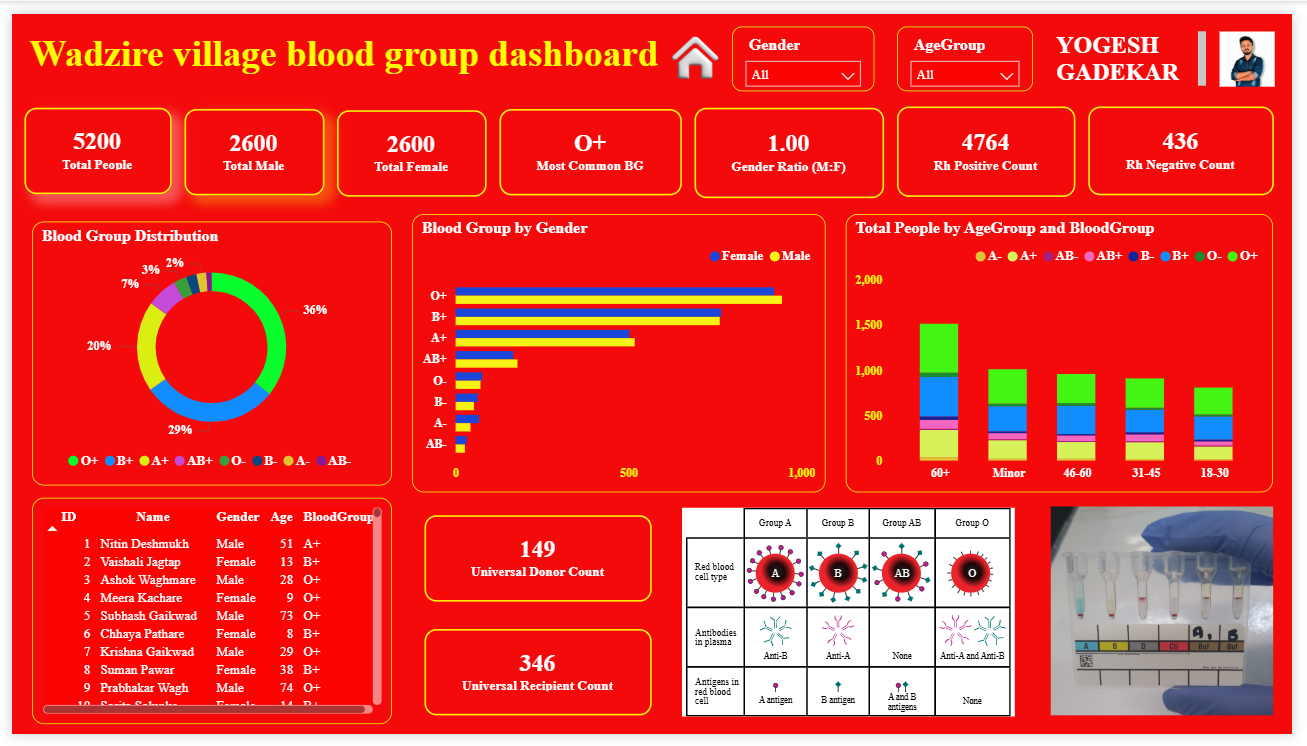

This screenshot's page, from the dashboard's own definition file:
{"tool":"powerbi","page":{"name":"Page 1","canvas":[1280,720],"ordinal":0},"visuals":[{"type":"textbox","box":[12.5,12.5,643.8,62.5],"z":0},{"type":"cardVisual","fields":{"Data":["BloodGroupData.Total People"]},"box":[12.3,93.3,146.8,86.4],"z":1000},{"type":"cardVisual","fields":{"Data":["BloodGroupData.Total Male"]},"box":[172.9,94.7,140,86.4],"z":2000},{"type":"cardVisual","fields":{"Data":["BloodGroupData.Total Female"]},"box":[325.2,96.1,149.6,86.4],"z":3000},{"type":"cardVisual","fields":{"Data":["BloodGroupData.Most Common BG"]},"box":[487.1,94.7,182.5,86.4],"z":4000},{"type":"cardVisual","fields":{"Data":["BloodGroupData.Rh Positive Count"]},"box":[885.1,91.9,178.4,90.6],"z":5000},{"type":"cardVisual","fields":{"Data":["BloodGroupData.Gender Ratio (M:F)"]},"box":[682,93.3,189.4,90.6],"z":6000},{"type":"cardVisual","fields":{"Data":["BloodGroupData.Rh Negative Count"]},"box":[1075.8,91.9,185.2,89.2],"z":7000},{"type":"donutChart","title":"Blood Group Distribution","fields":{"Category":["BloodGroupData.BloodGroup"],"Y":["BloodGroupData.Total People"]},"box":[20,207.5,360,263.8],"z":8000},{"type":"clusteredBarChart","title":"Blood Group by Gender","fields":{"Category":["BloodGroupData.BloodGroup"],"Series":["BloodGroupData.Gender"],"Y":["BloodGroupData.Total People"]},"box":[400,200,413.8,278.8],"z":9000},{"type":"columnChart","fields":{"Category":["BloodGroupData.AgeGroup"],"Series":["BloodGroupData.BloodGroup"],"Y":["BloodGroupData.Total People"]},"box":[833.8,200,427.5,278.8],"z":10000},{"type":"image","box":[1038.8,492.5,222.5,208.8],"z":11000},{"type":"tableEx","fields":{"Values":["BloodGroupData.PersonID","BloodGroupData.Name","BloodGroupData.Gender","BloodGroupData.Age","BloodGroupData.BloodGroup"]},"box":[20,483.8,360,226.2],"z":12000},{"type":"cardVisual","fields":{"Data":["BloodGroupData.Universal Donor Count"]},"box":[412.5,501.2,227.5,86.2],"z":13000},{"type":"cardVisual","fields":{"Data":["BloodGroupData.Universal Recipient Count"]},"box":[412.5,615,227.5,86.2],"z":14000},{"type":"image","box":[670,493.8,332.5,208.8],"z":15000},{"type":"image","box":[657.5,12.5,51.2,62.5],"z":16000},{"type":"slicer","fields":{"Values":["BloodGroupData.Gender"]},"box":[720,12.5,142.5,65],"z":17000},{"type":"slicer","fields":{"Values":["BloodGroupData.AgeGroup"]},"box":[885,12.5,136.2,65],"z":17001},{"type":"image","box":[1198.8,17.5,72.5,55],"z":17002},{"type":"textbox","box":[1038.8,12.5,160,72.5],"z":17003}]}

Visuals, with their boxes in screenshot pixels (x1, y1, x2, y2), scaled from the page's 1280x720 canvas onto the 1307x746 screenshot:
textbox: l=13, t=13, r=670, b=78
cardVisual - BloodGroupData.Total People: l=13, t=97, r=162, b=186
cardVisual - BloodGroupData.Total Male: l=177, t=98, r=320, b=188
cardVisual - BloodGroupData.Total Female: l=332, t=100, r=485, b=189
cardVisual - BloodGroupData.Most Common BG: l=497, t=98, r=684, b=188
cardVisual - BloodGroupData.Rh Positive Count: l=904, t=95, r=1086, b=189
cardVisual - BloodGroupData.Gender Ratio (M:F): l=696, t=97, r=890, b=191
cardVisual - BloodGroupData.Rh Negative Count: l=1098, t=95, r=1288, b=188
"Blood Group Distribution" donutChart: l=20, t=215, r=388, b=488
"Blood Group by Gender" clusteredBarChart: l=408, t=207, r=831, b=496
columnChart - BloodGroupData.AgeGroup x BloodGroupData.BloodGroup: l=851, t=207, r=1288, b=496
image: l=1061, t=510, r=1288, b=727
tableEx - BloodGroupData.PersonID x BloodGroupData.Name: l=20, t=501, r=388, b=736
cardVisual - BloodGroupData.Universal Donor Count: l=421, t=519, r=654, b=609
cardVisual - BloodGroupData.Universal Recipient Count: l=421, t=637, r=654, b=727
image: l=684, t=512, r=1024, b=728
image: l=671, t=13, r=724, b=78
slicer - BloodGroupData.Gender: l=735, t=13, r=881, b=80
slicer - BloodGroupData.AgeGroup: l=904, t=13, r=1043, b=80
image: l=1224, t=18, r=1298, b=75
textbox: l=1061, t=13, r=1224, b=88
